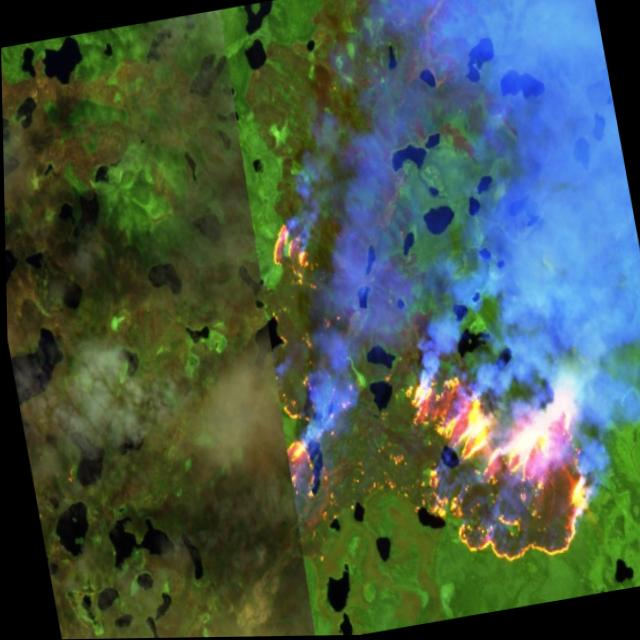fire: (390, 337, 607, 582), (269, 387, 349, 533), (251, 194, 336, 306)
